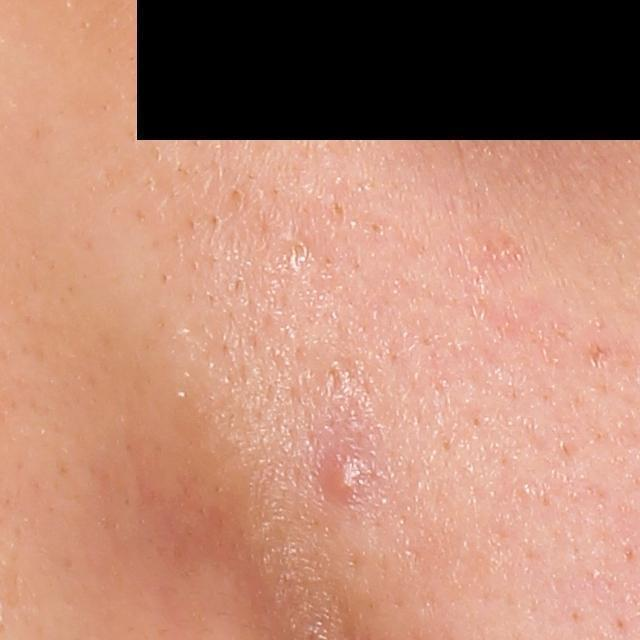comedo: (287, 237, 309, 273), (228, 185, 247, 207)
papule: (308, 436, 383, 509)
